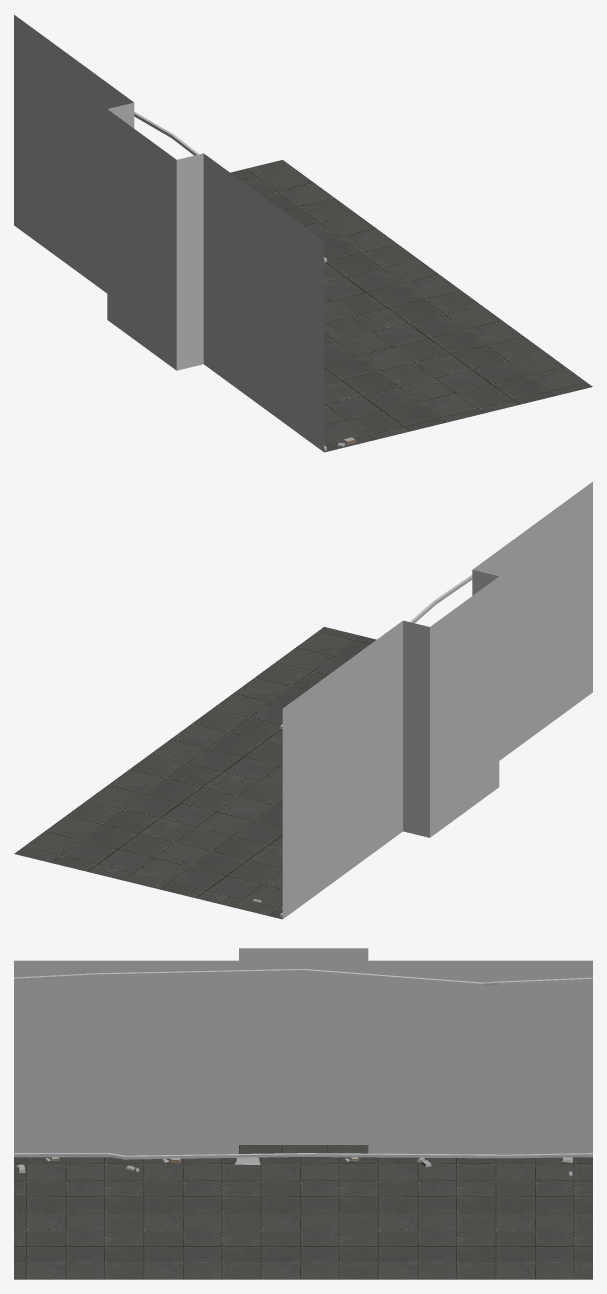
Rendered from bz_room_03.fbx.
3 views of the same model, one above another, from view 1: azimuth 30°, elevation 25°; view 2: azimuth 150°, elevation 25°; view 3: azimuth 270°, elevation 25° (orthographic). The views are drawn at different scales.
Visible parts, largest first — view 1: bz_room_03; view 2: bz_room_03; view 3: bz_room_03.
Boxes of the visible parts, x1,y1,x2,y2 form: bz_room_03: (14,15,592,452); bz_room_03: (14,482,592,919); bz_room_03: (14,948,592,1279).
Size of the model in its own units: 4.4 by 3.01 by 8.
